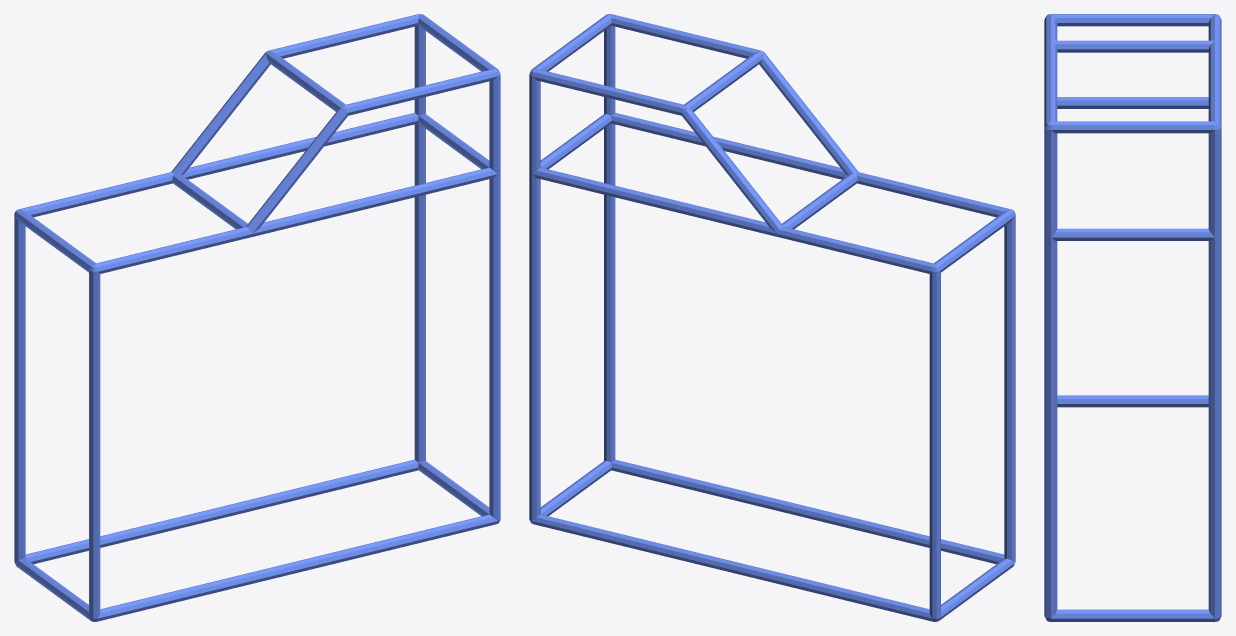
Rendered from dae.dae.
3 renders of one model, left to right at view 1: azimuth 30°, elevation 25°; view 2: azimuth 150°, elevation 25°; view 3: azimuth 270°, elevation 25°, orthographic. The views are drawn at different scales.
Visible parts, largest first — view 1: 晶格_1; view 2: 晶格_1; view 3: 晶格_1.
Boxes of the visible parts, left/top/right/bottom form: 晶格_1: left=14, top=14, right=500, bottom=621; 晶格_1: left=529, top=14, right=1015, bottom=621; 晶格_1: left=1044, top=14, right=1221, bottom=621.
Size of the model in its own units: 160 by 170 by 54.46.
